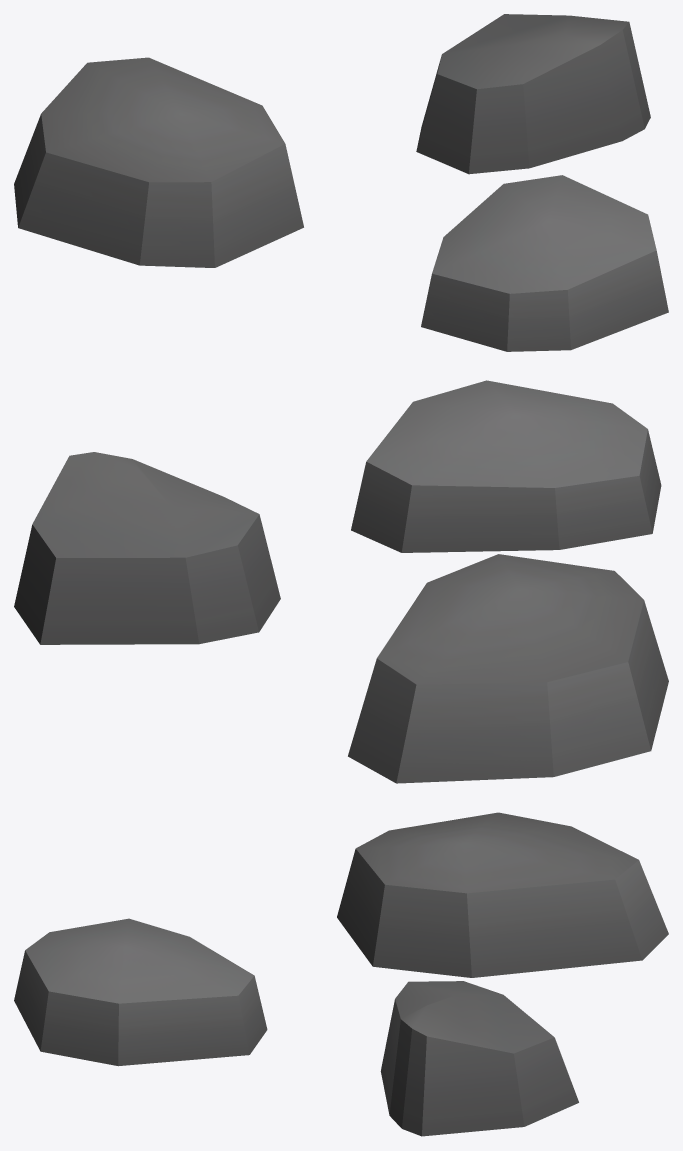
Rendered from Rocks_A_2.glb.
3 renders of one model, top to bottom at view 1: azimuth 30°, elevation 25°; view 2: azimuth 150°, elevation 25°; view 3: azimuth 270°, elevation 25°, orthographic. The views are drawn at different scales.
Visible parts, largest first — view 1: Rocks_A_2; view 2: Rocks_A_2; view 3: Rocks_A_2.
Part boxes in pixels (bbox=[...]): Rocks_A_2: bbox=[14, 14, 668, 351]; Rocks_A_2: bbox=[14, 380, 668, 783]; Rocks_A_2: bbox=[14, 812, 668, 1136].
Bounding box in the file's own units: 1.44 × 0.2345 × 1.49.
1 material, 1 textured.
